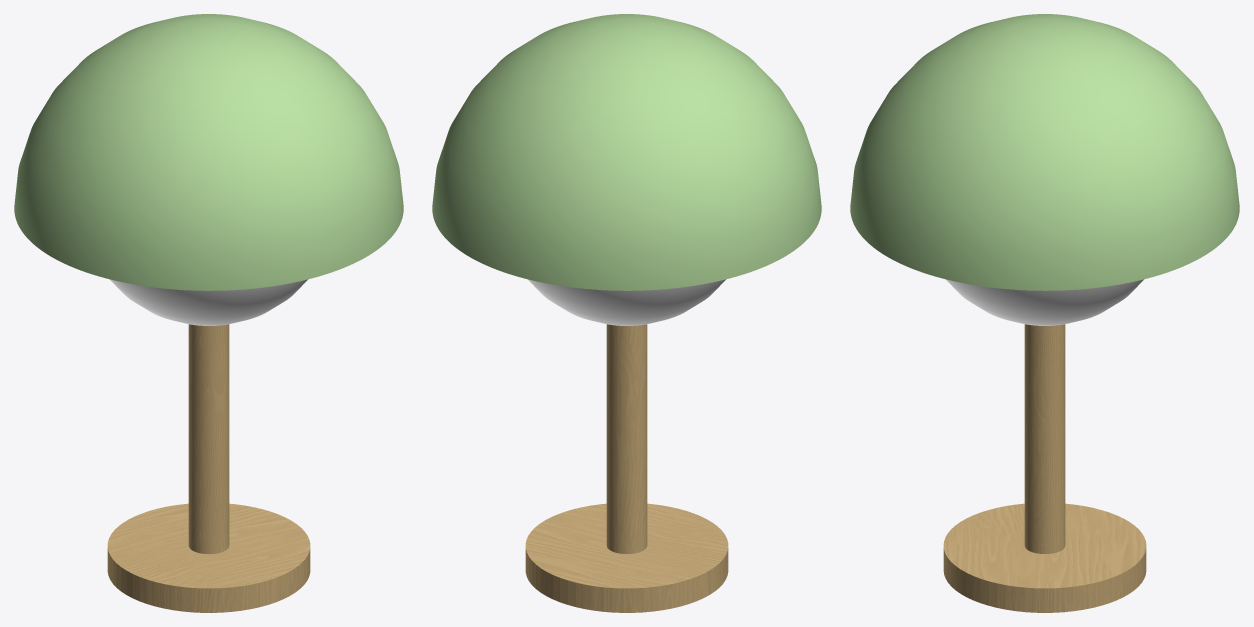
File: GREEN_OFF.glb
The picture shows the model from 3 angles, left to right: view 1: azimuth 30°, elevation 25°; view 2: azimuth 150°, elevation 25°; view 3: azimuth 270°, elevation 25°; orthographic projection.
Visible parts, largest first — view 1: DOME, BASE2, DOME2; view 2: DOME, BASE2, DOME2; view 3: DOME, BASE2, DOME2.
Part boxes in pixels (bbox=[...]): DOME: bbox=[14, 14, 403, 290]; BASE2: bbox=[107, 324, 310, 612]; DOME2: bbox=[110, 279, 307, 325]; DOME: bbox=[432, 14, 821, 290]; BASE2: bbox=[525, 324, 728, 612]; DOME2: bbox=[528, 279, 725, 325]; DOME: bbox=[850, 14, 1239, 290]; BASE2: bbox=[943, 324, 1146, 612]; DOME2: bbox=[946, 279, 1143, 325].
Bounding box in the file's own units: 0.288 × 0.439 × 0.288.
4 materials, 4 textured.
